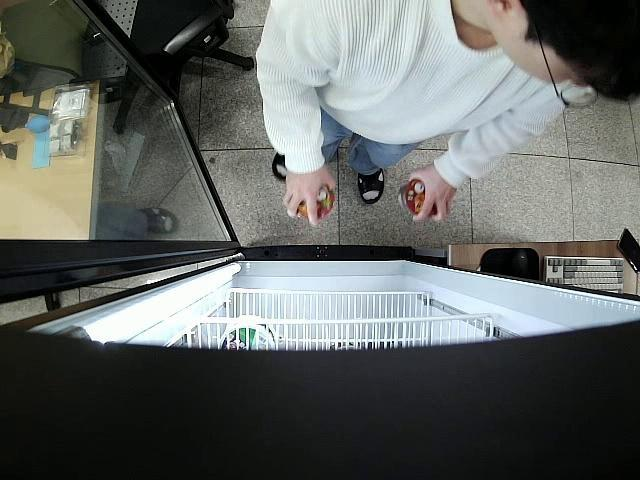06_nuguri_S: (398, 179, 438, 217), (296, 186, 335, 220)
